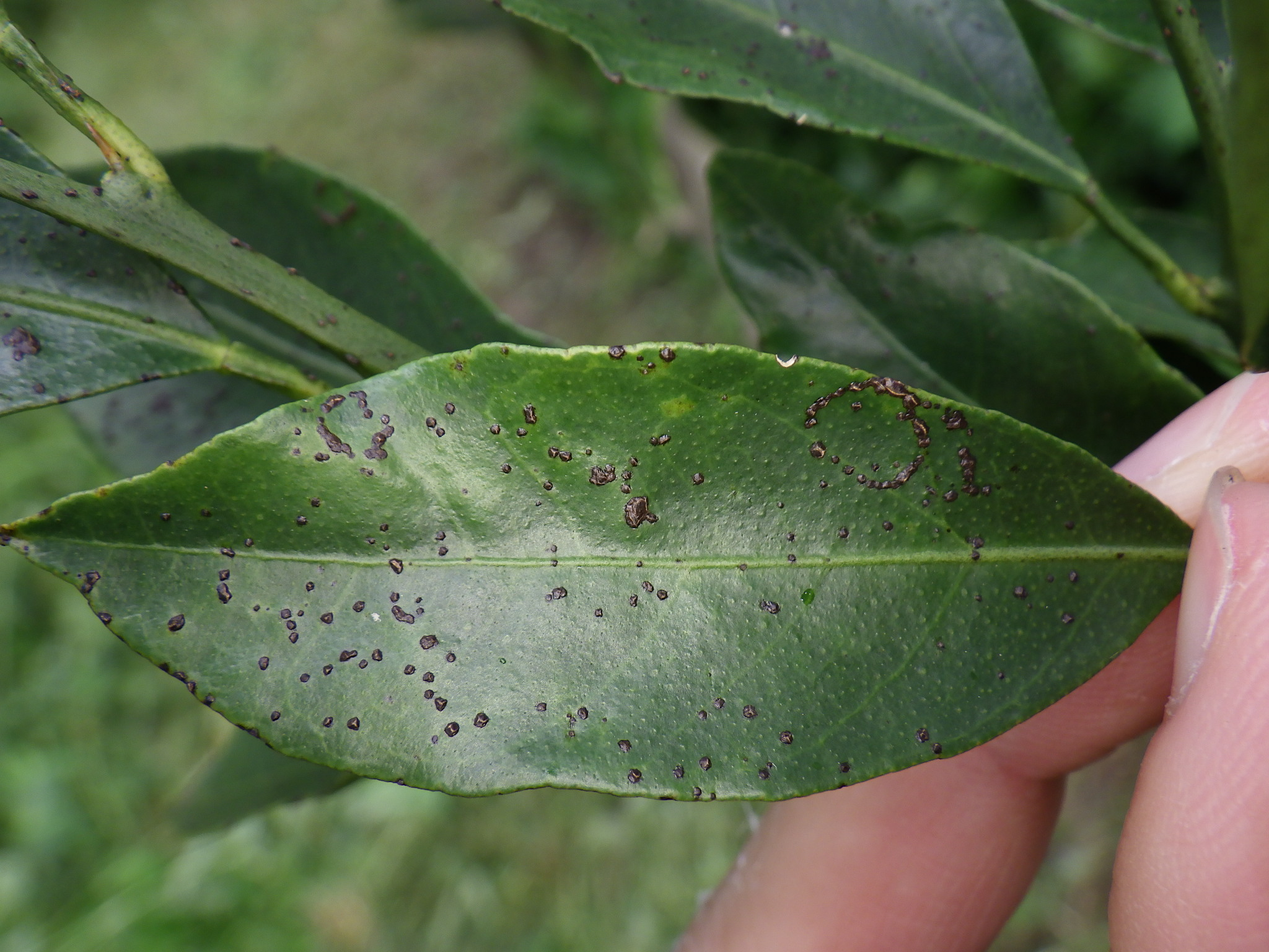Black_Spot: (0, 342, 1190, 801)
